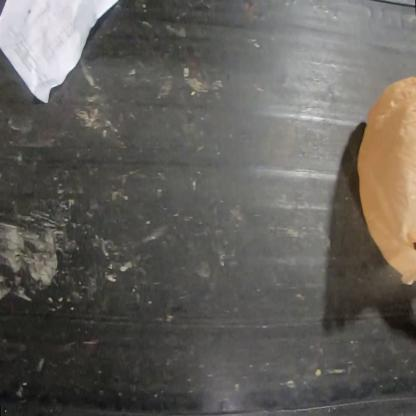soft_plastic: (357, 77, 416, 286)
